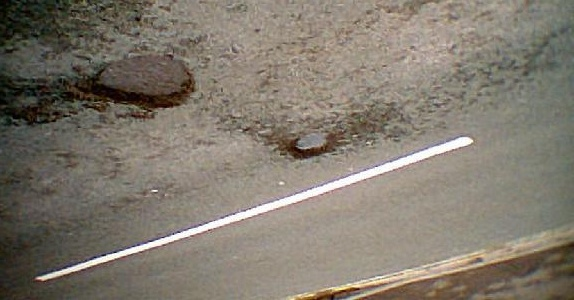pothole: (89, 50, 196, 112), (285, 127, 338, 163)
